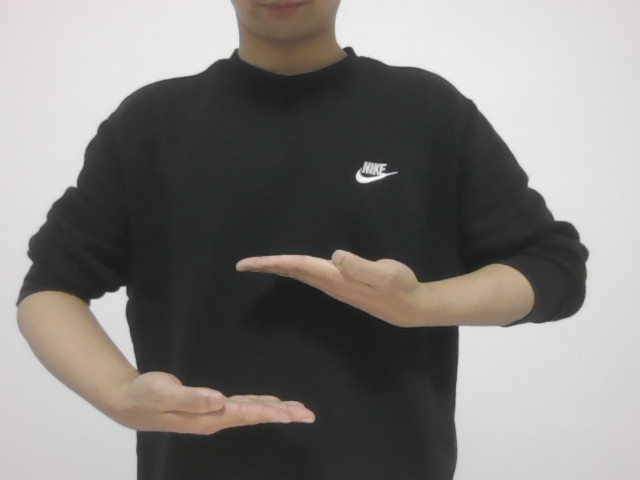happy: (127, 245, 427, 445)
